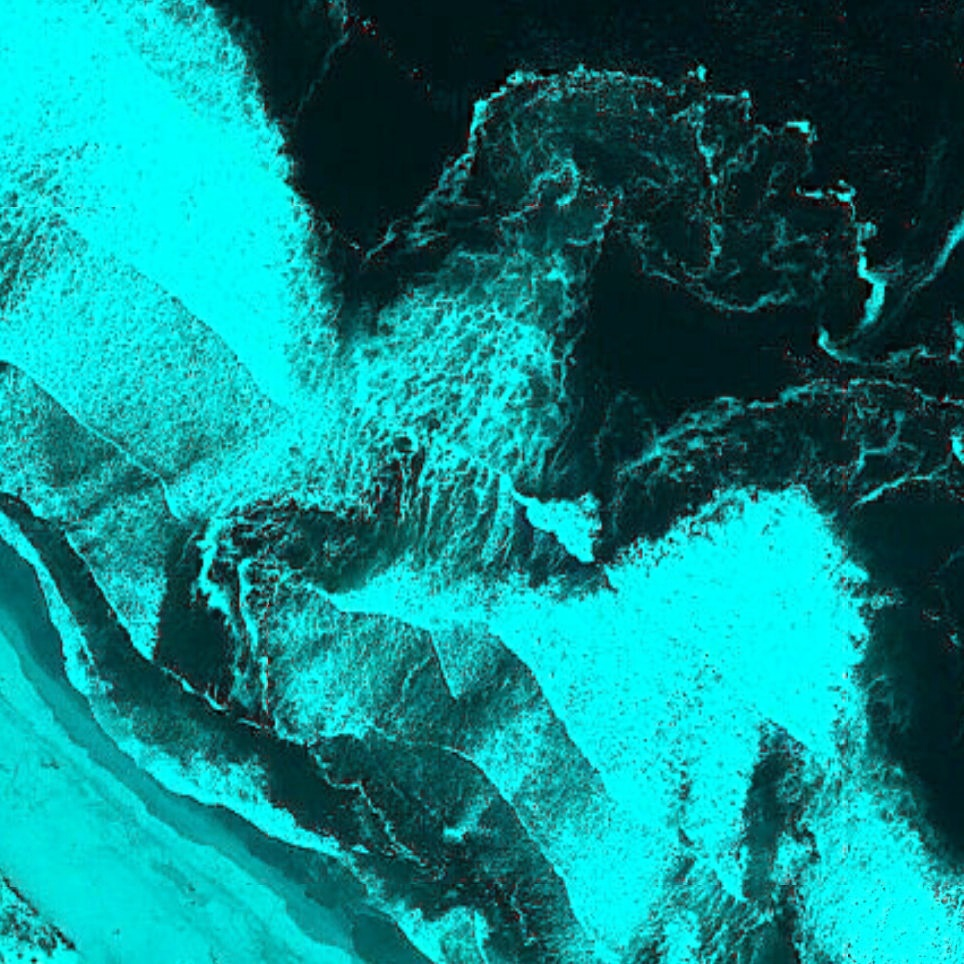rip_current: (114, 304, 581, 705)
